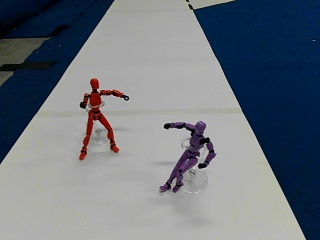pedestrian: (78, 77, 128, 158), (160, 119, 215, 192)
